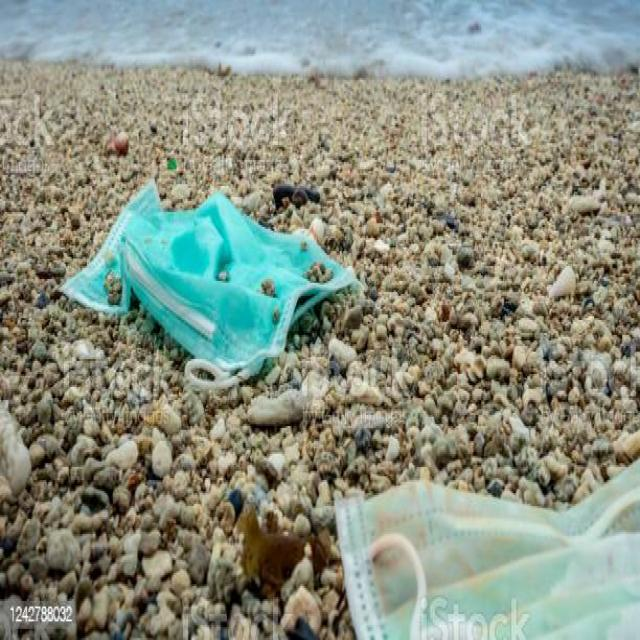non-organic waste: (62, 175, 358, 383), (315, 452, 640, 640)
